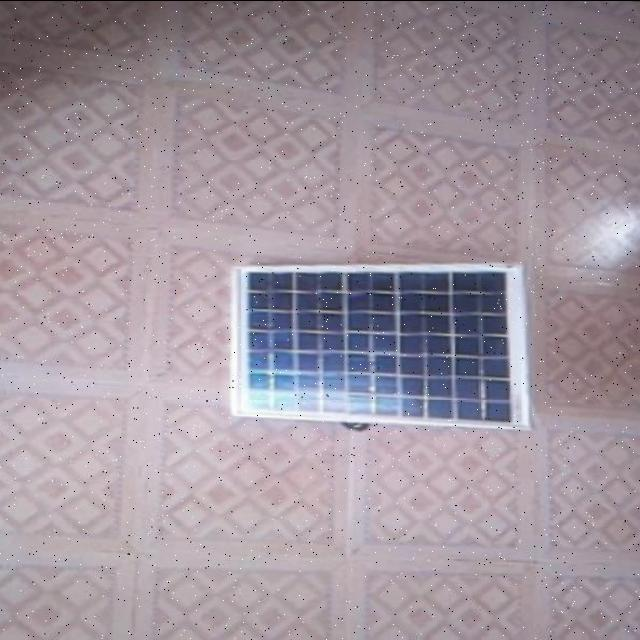Normal Solar Panel: (230, 247, 538, 436)
